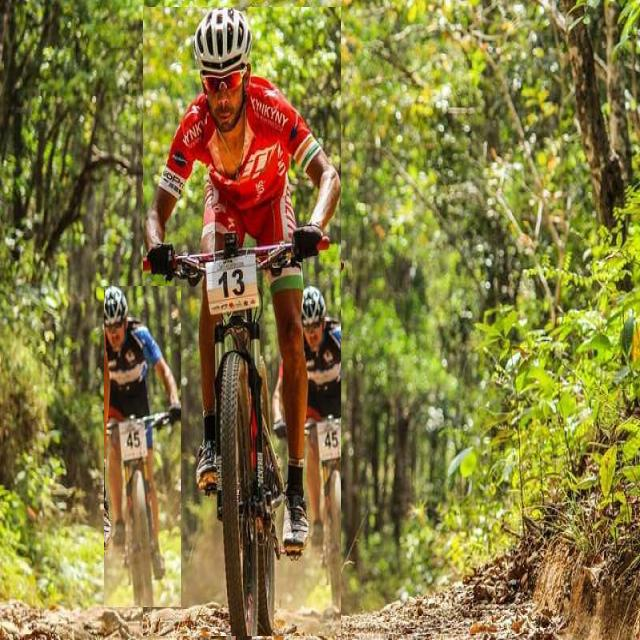bicycle: (143, 7, 340, 636), (104, 287, 181, 607)
